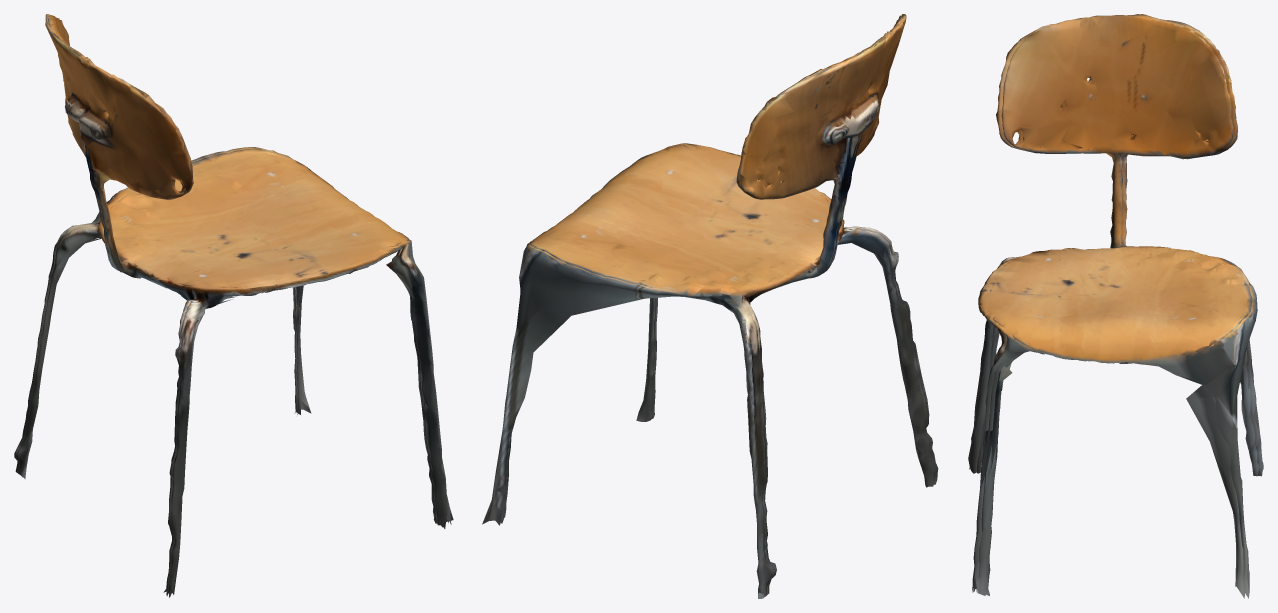
The model's file is Stuhl_zwischenraum_albtraum.glb.
3 views of the same model, side by side, from view 1: azimuth 30°, elevation 25°; view 2: azimuth 150°, elevation 25°; view 3: azimuth 270°, elevation 25° (orthographic). The views are drawn at different scales.
Parts seen in each view (by area): view 1: Stuhl, Stuhl.001; view 2: Stuhl.001, Stuhl; view 3: Stuhl.001, Stuhl.
Part boxes in pixels (<box>): Stuhl: <box>16,16,453,597</box>; Stuhl.001: <box>14,14,448,596</box>; Stuhl.001: <box>482,15,935,598</box>; Stuhl: <box>501,14,938,596</box>; Stuhl.001: <box>976,14,1263,598</box>; Stuhl: <box>968,14,1259,598</box>.
Size of what is drawn, in the model's own units: 0.5237 by 0.7935 by 0.4734.
2 materials, 2 textured.
